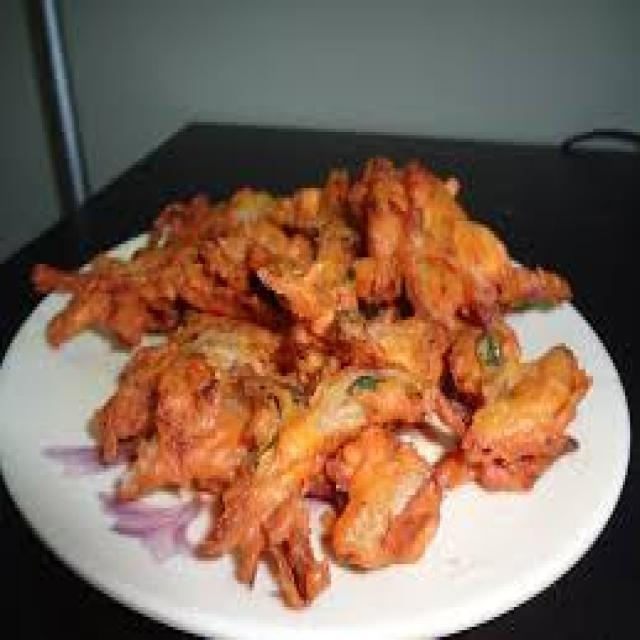BAJI: (35, 158, 588, 604)
